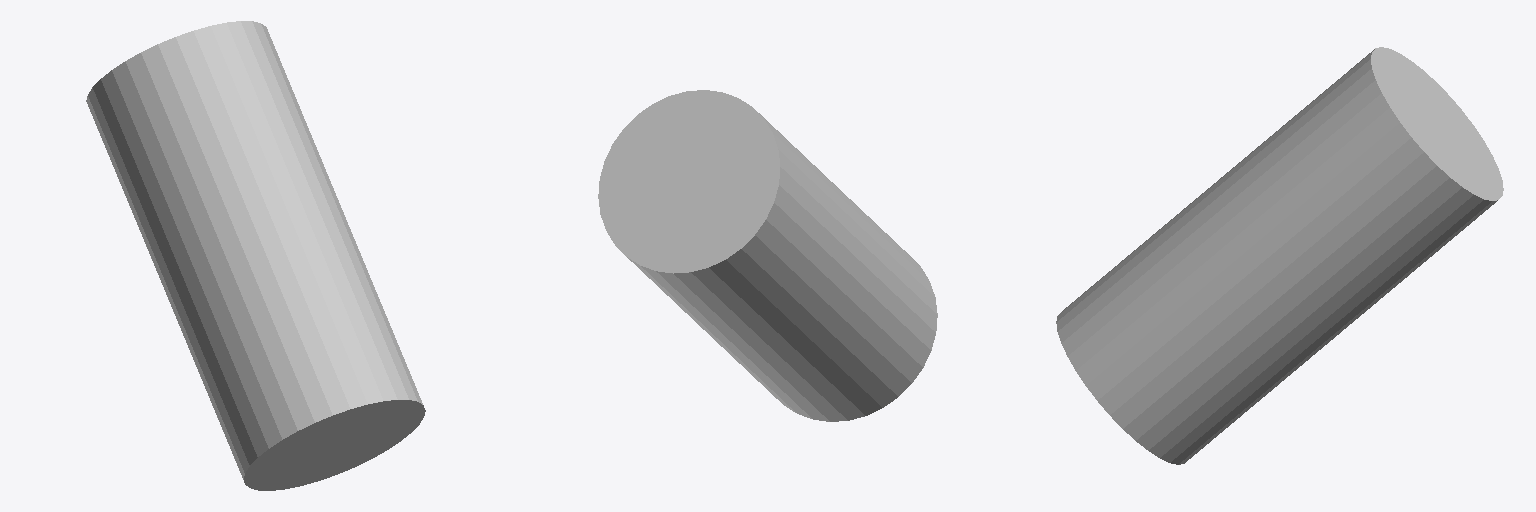
File: lamp_piece4.obj
3 renders of one model, left to right at view 1: azimuth 30°, elevation 25°; view 2: azimuth 150°, elevation 25°; view 3: azimuth 270°, elevation 25°, orthographic.
Visible parts, largest first — view 1: Cylinder.027; view 2: Cylinder.027; view 3: Cylinder.027.
Part boxes in pixels (left/top/right/bottom): Cylinder.027: left=86, top=21, right=425, bottom=490; Cylinder.027: left=598, top=90, right=937, bottom=421; Cylinder.027: left=1056, top=47, right=1503, bottom=464.
Size of the model in its own units: 0.0516 by 0.1145 by 0.1179.